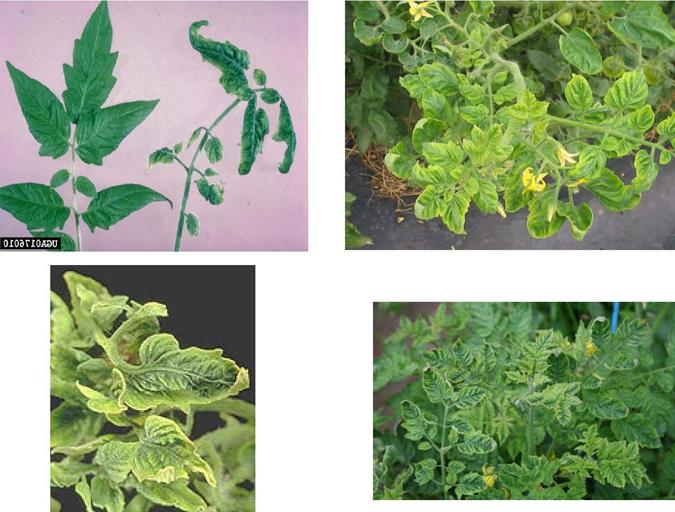Tomato leaf yellow virus: (97, 334, 256, 414), (71, 414, 226, 494), (602, 68, 648, 119), (521, 192, 565, 237), (392, 397, 434, 440), (407, 362, 450, 402), (414, 60, 458, 99), (401, 187, 447, 224), (568, 148, 607, 188), (557, 73, 593, 116), (420, 140, 465, 170), (633, 150, 658, 202), (608, 321, 648, 352), (458, 427, 500, 455), (470, 177, 499, 217), (441, 386, 486, 410), (452, 473, 489, 500), (416, 349, 455, 371), (623, 106, 656, 131), (449, 335, 475, 366), (600, 455, 624, 487), (580, 424, 600, 460), (478, 342, 497, 378), (498, 459, 530, 480), (457, 105, 489, 126), (554, 398, 573, 430), (478, 124, 504, 146), (624, 460, 643, 490), (483, 147, 509, 168), (620, 441, 641, 464), (520, 390, 546, 408), (528, 103, 552, 121), (500, 107, 527, 122), (558, 382, 579, 395), (521, 344, 538, 360)
